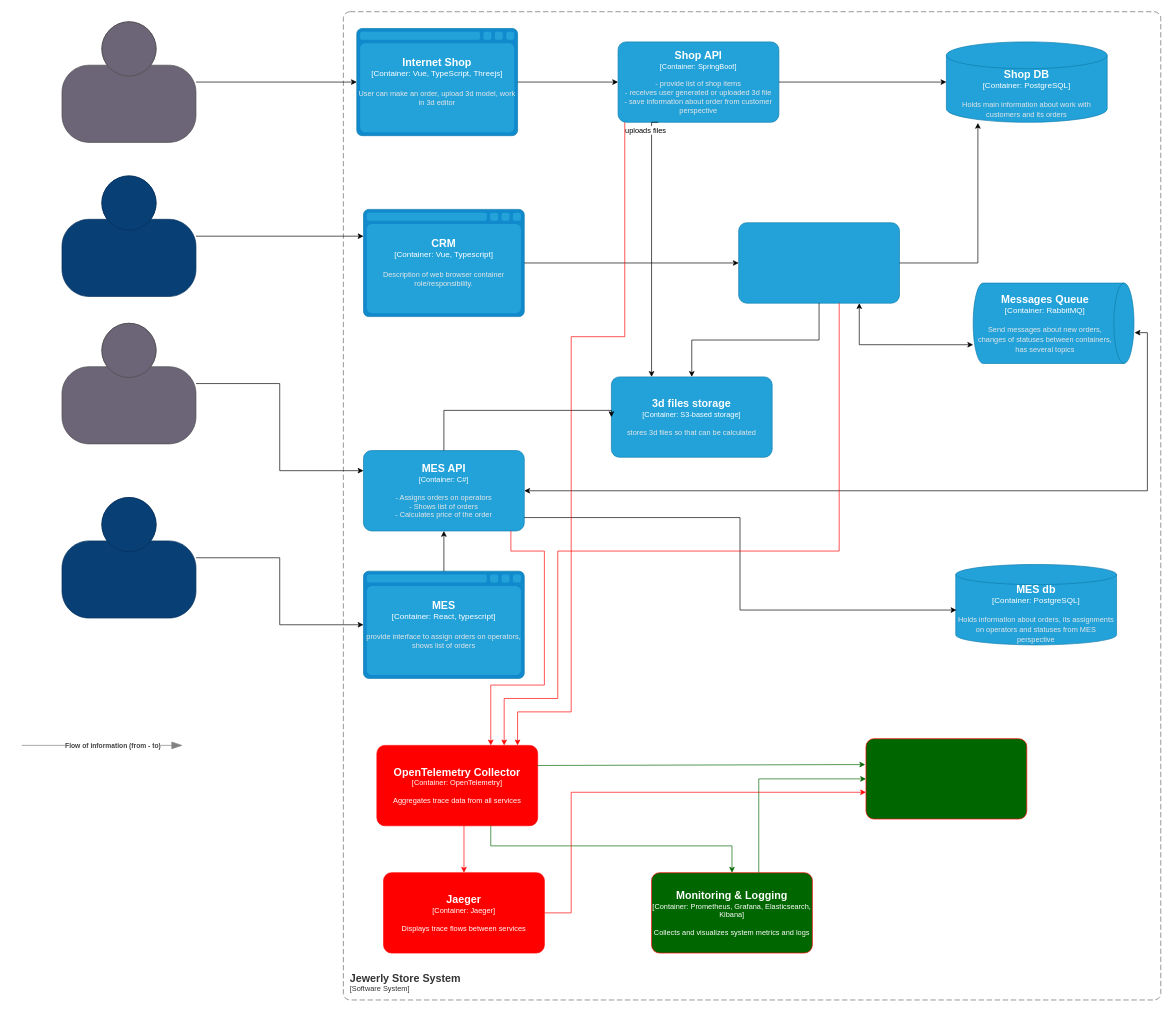
The diagram is 1173 pixels wide and 1012 high, and some of its shapes have lost their labels. Each missing label, with the centre of its shape:
Alerting [Container: PagerDuty/Slack] Notifies teams about critical issues: (946,778)
API user [Person] Description of external person.: (128,383)
CRM API [Container: SpringBoot] Description of container role/responsibility.: (818,262)
Customer [Person] Description of external person.: (128,81)
Operator [Person] Takes order in work, manufactures jewerly: (128,557)
Seller [Person] Operates with order, confirms manufacturing for the user: (128,235)
